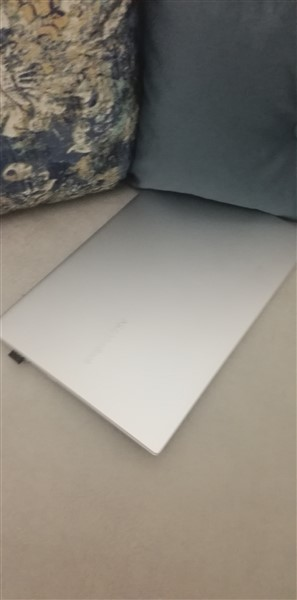laptop: (5, 185, 297, 462)
